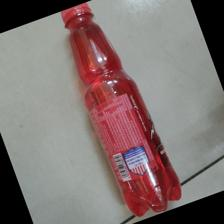Sting: (63, 2, 180, 219)
